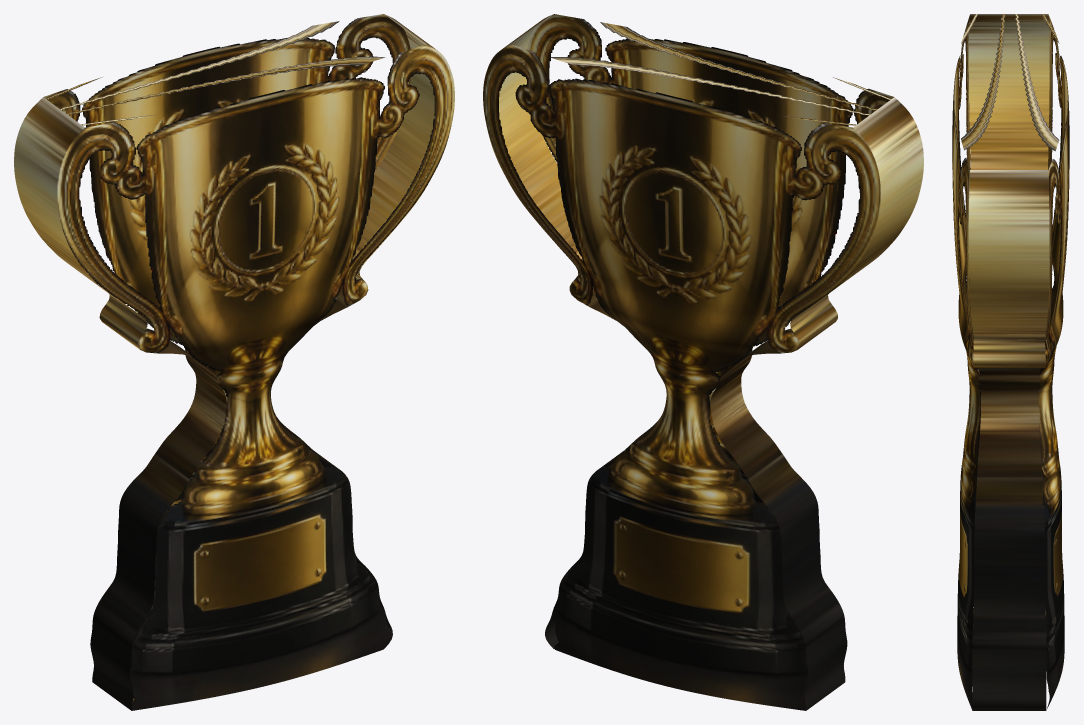
Rendered from trophée jeux fin du jeux.glb.
The picture shows the model from 3 angles, left to right: view 1: azimuth 30°, elevation 25°; view 2: azimuth 150°, elevation 25°; view 3: azimuth 270°, elevation 25°; orthographic projection. The views are drawn at different scales.
Visible parts, largest first — view 1: Personnage V4 Neural; view 2: Personnage V4 Neural; view 3: Personnage V4 Neural.
Boxes of the visible parts, x1=… form: Personnage V4 Neural: x1=14, y1=14, x2=454, y2=710; Personnage V4 Neural: x1=483, y1=14, x2=923, y2=710; Personnage V4 Neural: x1=952, y1=14, x2=1069, y2=710.
Size of the model in its own units: 1.4 by 2 by 0.3798.
1 material, 1 textured.
